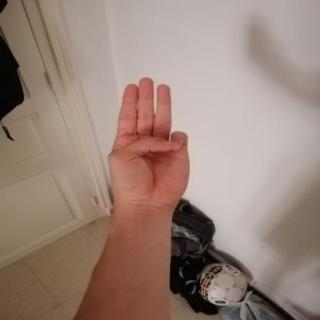THA: (94, 68, 204, 219)
